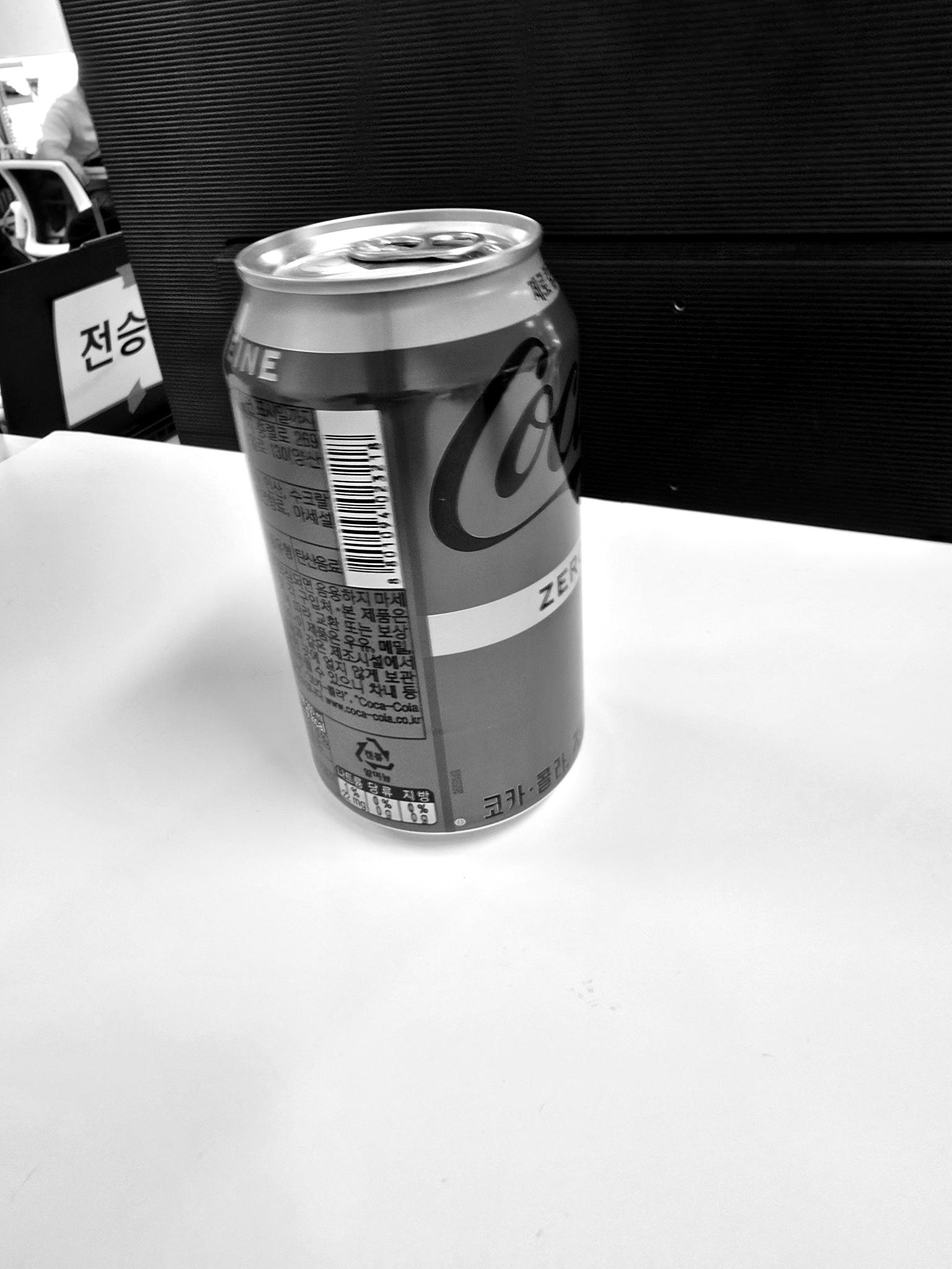can_coke_decaf: (223, 208, 583, 835)
